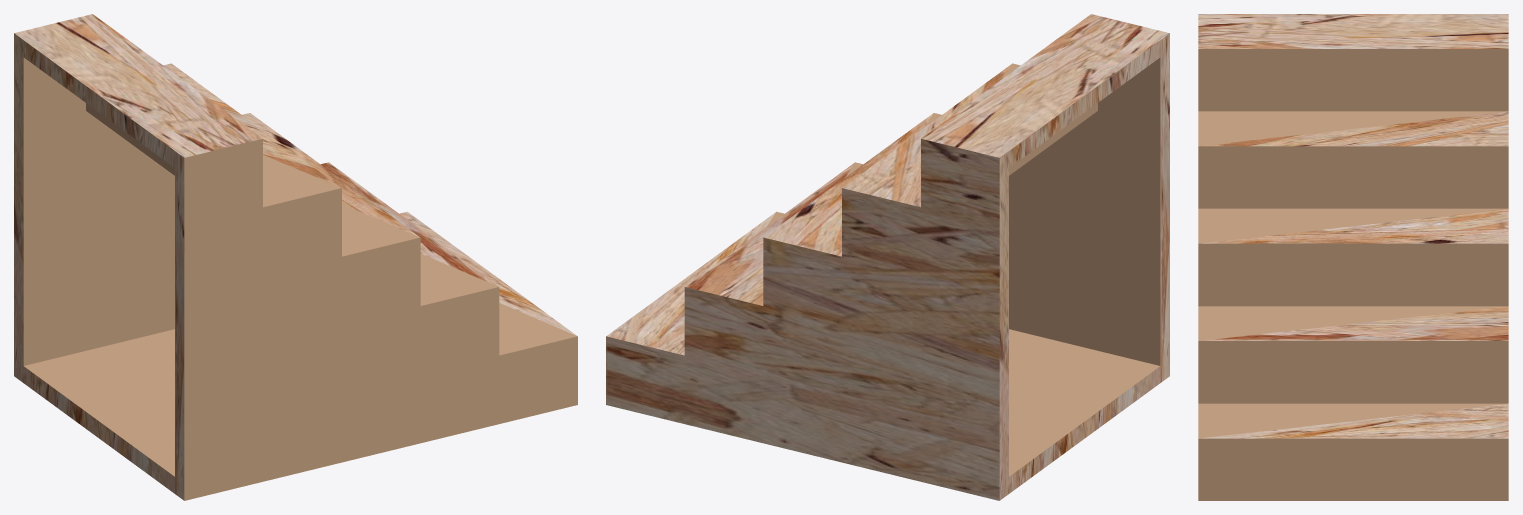
3 views of the same model, side by side, from view 1: azimuth 30°, elevation 25°; view 2: azimuth 150°, elevation 25°; view 3: azimuth 270°, elevation 25° (orthographic). The views are drawn at different scales.
Visible parts, largest first — view 1: base_link; view 2: base_link; view 3: base_link.
Part boxes in pixels (x1,y1,x2,y2): base_link: [14, 14, 577, 500]; base_link: [606, 14, 1169, 500]; base_link: [1198, 14, 1508, 500].
Bounding box in the file's own units: 1.2 × 0.9 × 1.
Materials: 1 (1 with a texture image).
